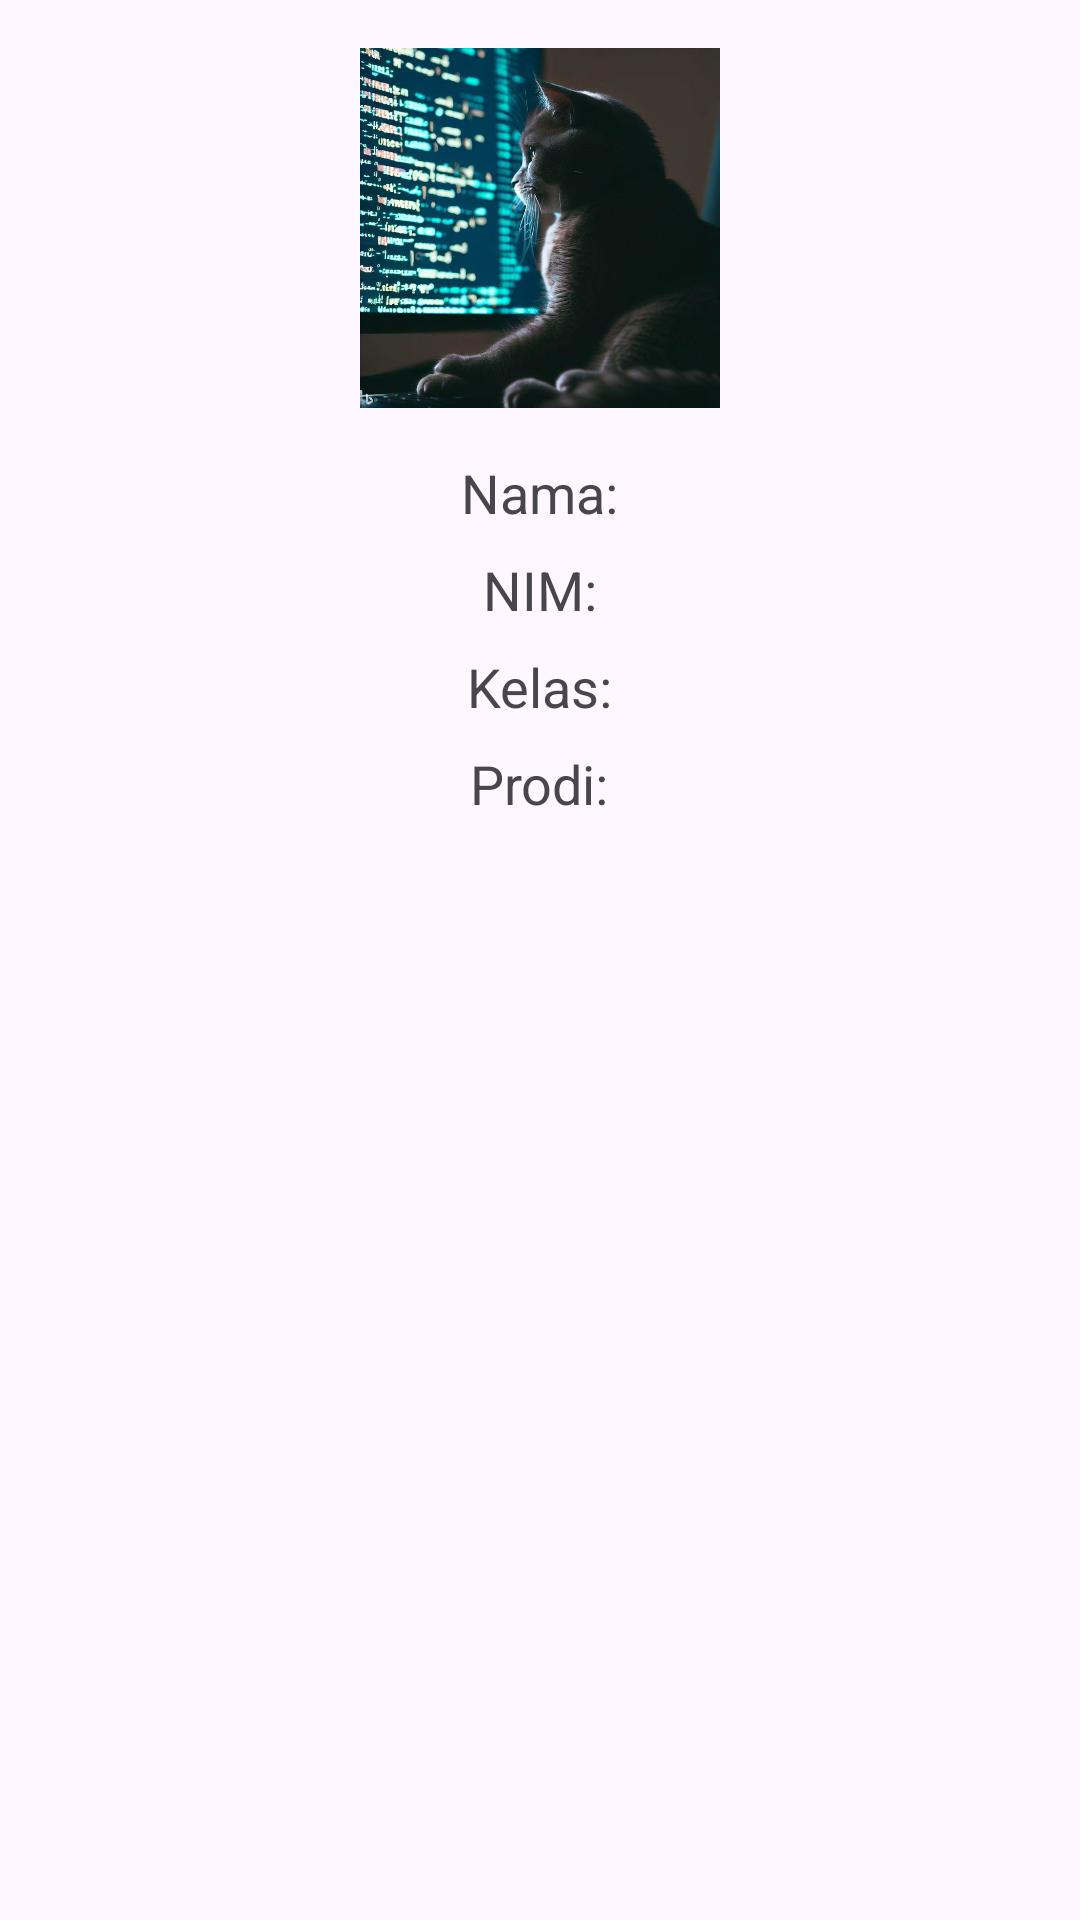

Icons on this 1080 x 1920 Android screen, each with its box as (x1, y1, x2, y2):
Profile Picture: (360, 48, 720, 408)
